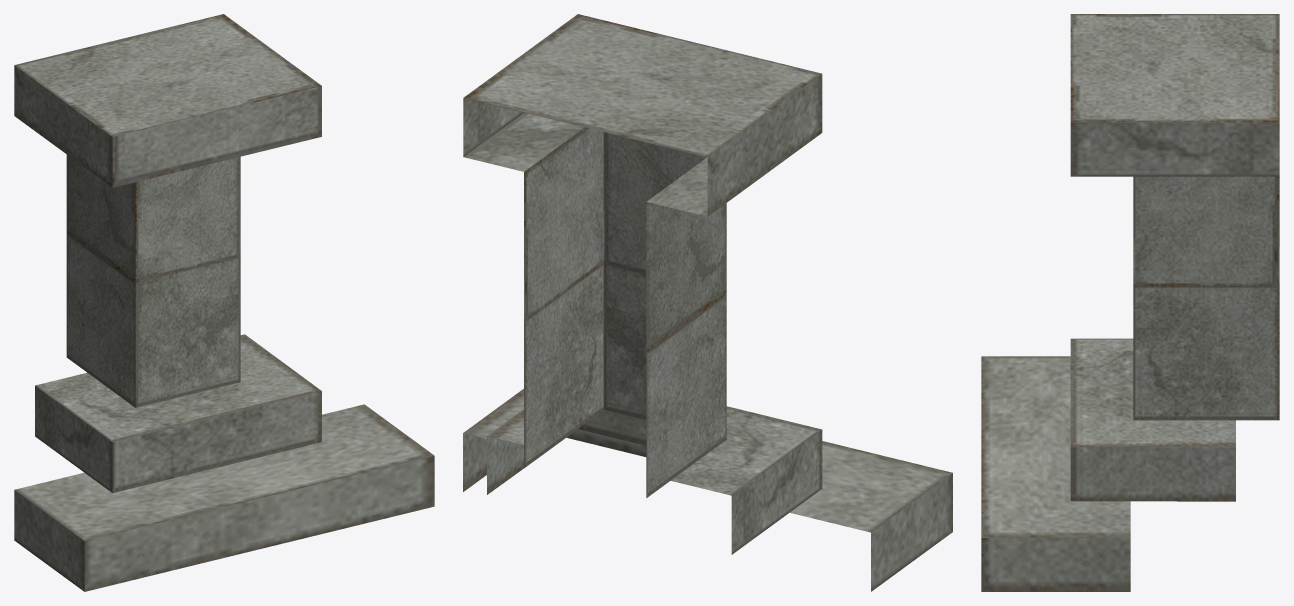
The model's file is plinth_med.fbx.
The picture shows the model from 3 angles, left to right: view 1: azimuth 30°, elevation 25°; view 2: azimuth 150°, elevation 25°; view 3: azimuth 270°, elevation 25°; orthographic projection. The views are drawn at different scales.
Parts seen in each view (by area): view 1: plinth_med; view 2: plinth_med; view 3: plinth_med.
Part boxes in pixels (<box>): plinth_med: <box>14,14,434,591</box>; plinth_med: <box>463,14,952,591</box>; plinth_med: <box>981,14,1279,591</box>.
Bounding box in the file's own units: 72 × 80 × 50.
